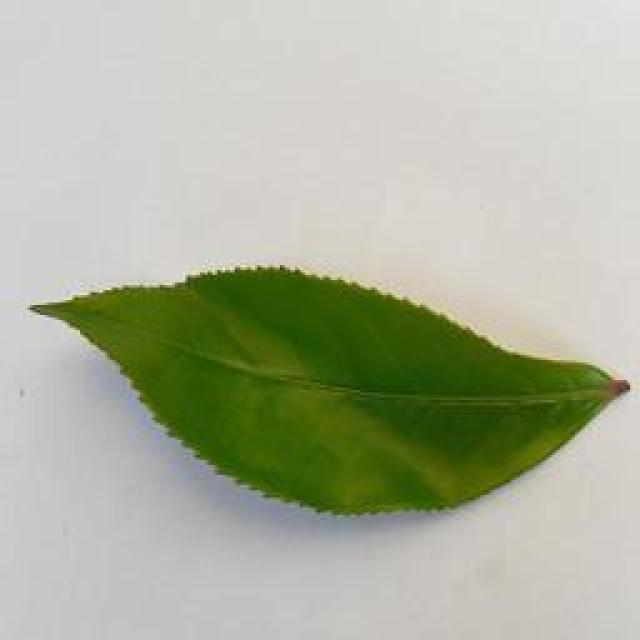Healthy: (26, 258, 638, 523)
